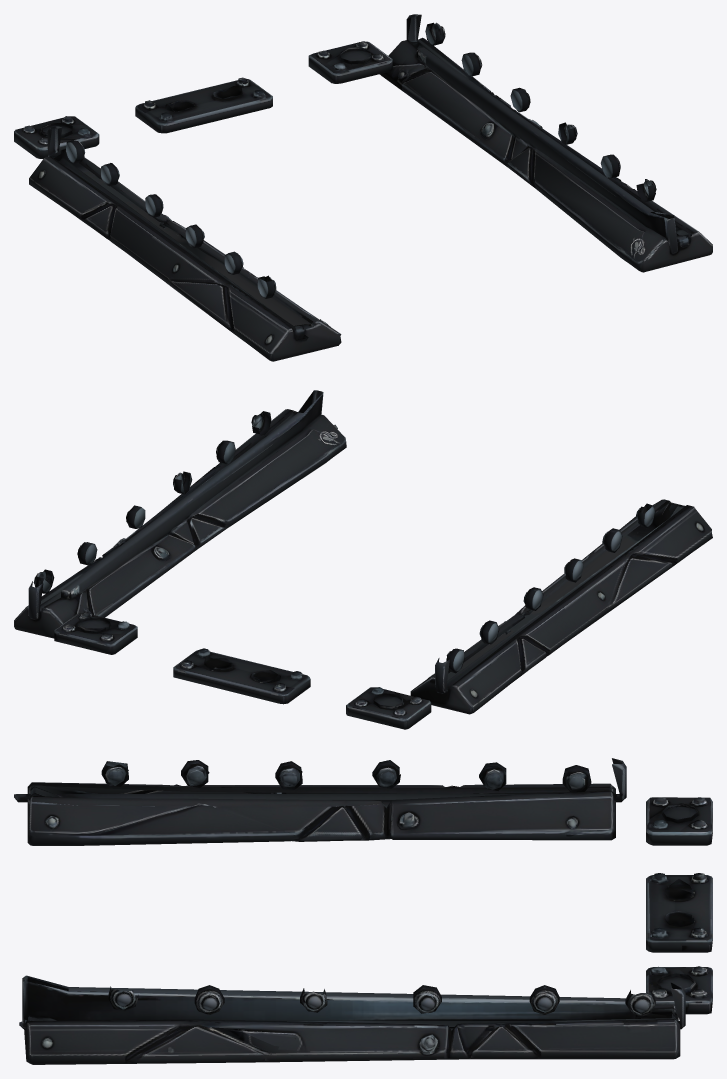
The model's file is blitz-reinforced_frame.glb.
3 views of the same model, one above another, from view 1: azimuth 30°, elevation 25°; view 2: azimuth 150°, elevation 25°; view 3: azimuth 270°, elevation 25° (orthographic). The views are drawn at different scales.
Parts seen in each view (by area): view 1: tripo_node_3b58eff0-c237-48ce-a82e-f72f3d998e71; view 2: tripo_node_3b58eff0-c237-48ce-a82e-f72f3d998e71; view 3: tripo_node_3b58eff0-c237-48ce-a82e-f72f3d998e71.
Part boxes in pixels (x1,y1,x2,y2): tripo_node_3b58eff0-c237-48ce-a82e-f72f3d998e71: [14, 14, 712, 361]; tripo_node_3b58eff0-c237-48ce-a82e-f72f3d998e71: [14, 390, 712, 729]; tripo_node_3b58eff0-c237-48ce-a82e-f72f3d998e71: [14, 758, 712, 1064].
Bounding box in the file's own units: 1.52 × 0.1683 × 1.72.
Materials: 1 (1 with a texture image).
